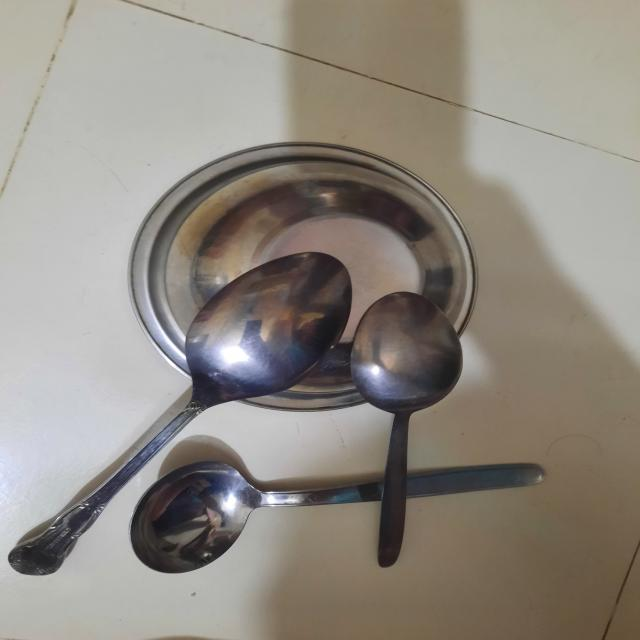Metal: (9, 135, 537, 608)
